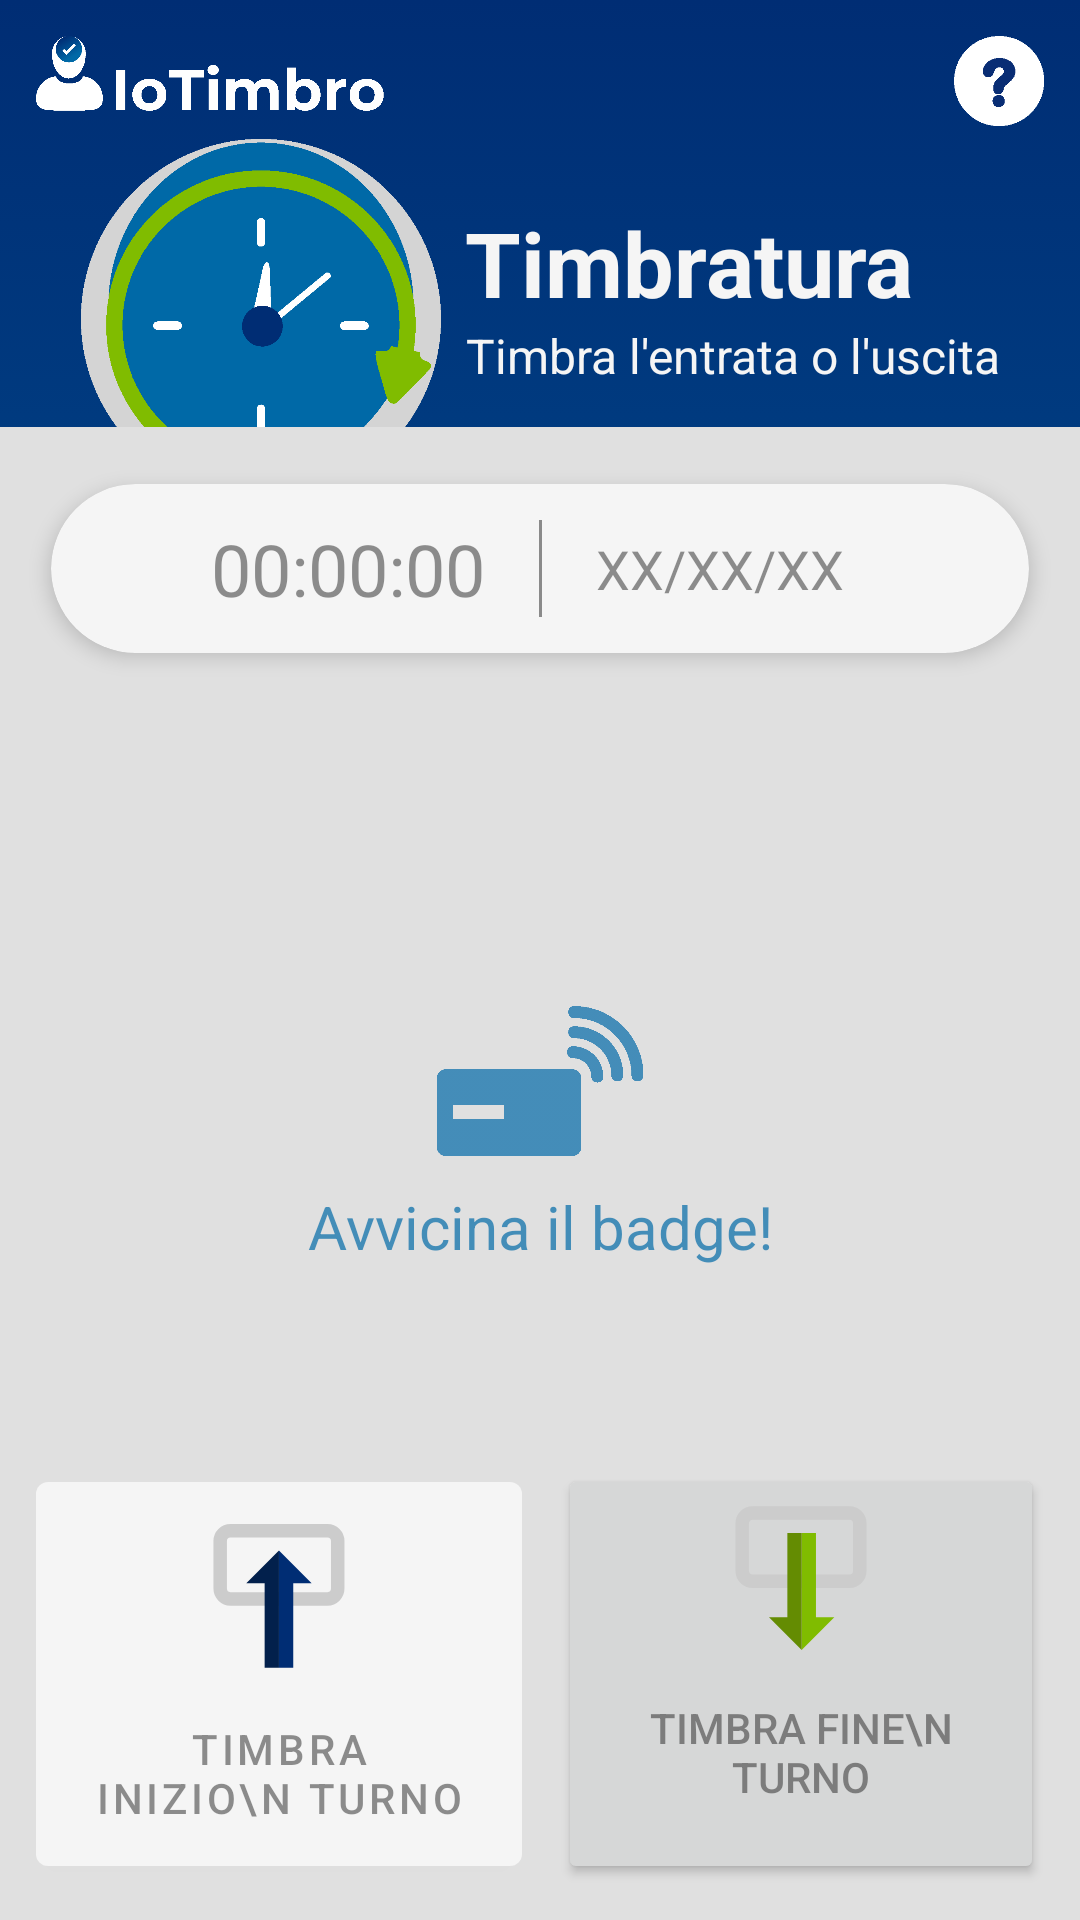

Locate icon controls on the screen. Image size 1080w x 1920h, boxes as (x1, y1, x2, y2).
question: (954, 36, 1044, 126)
